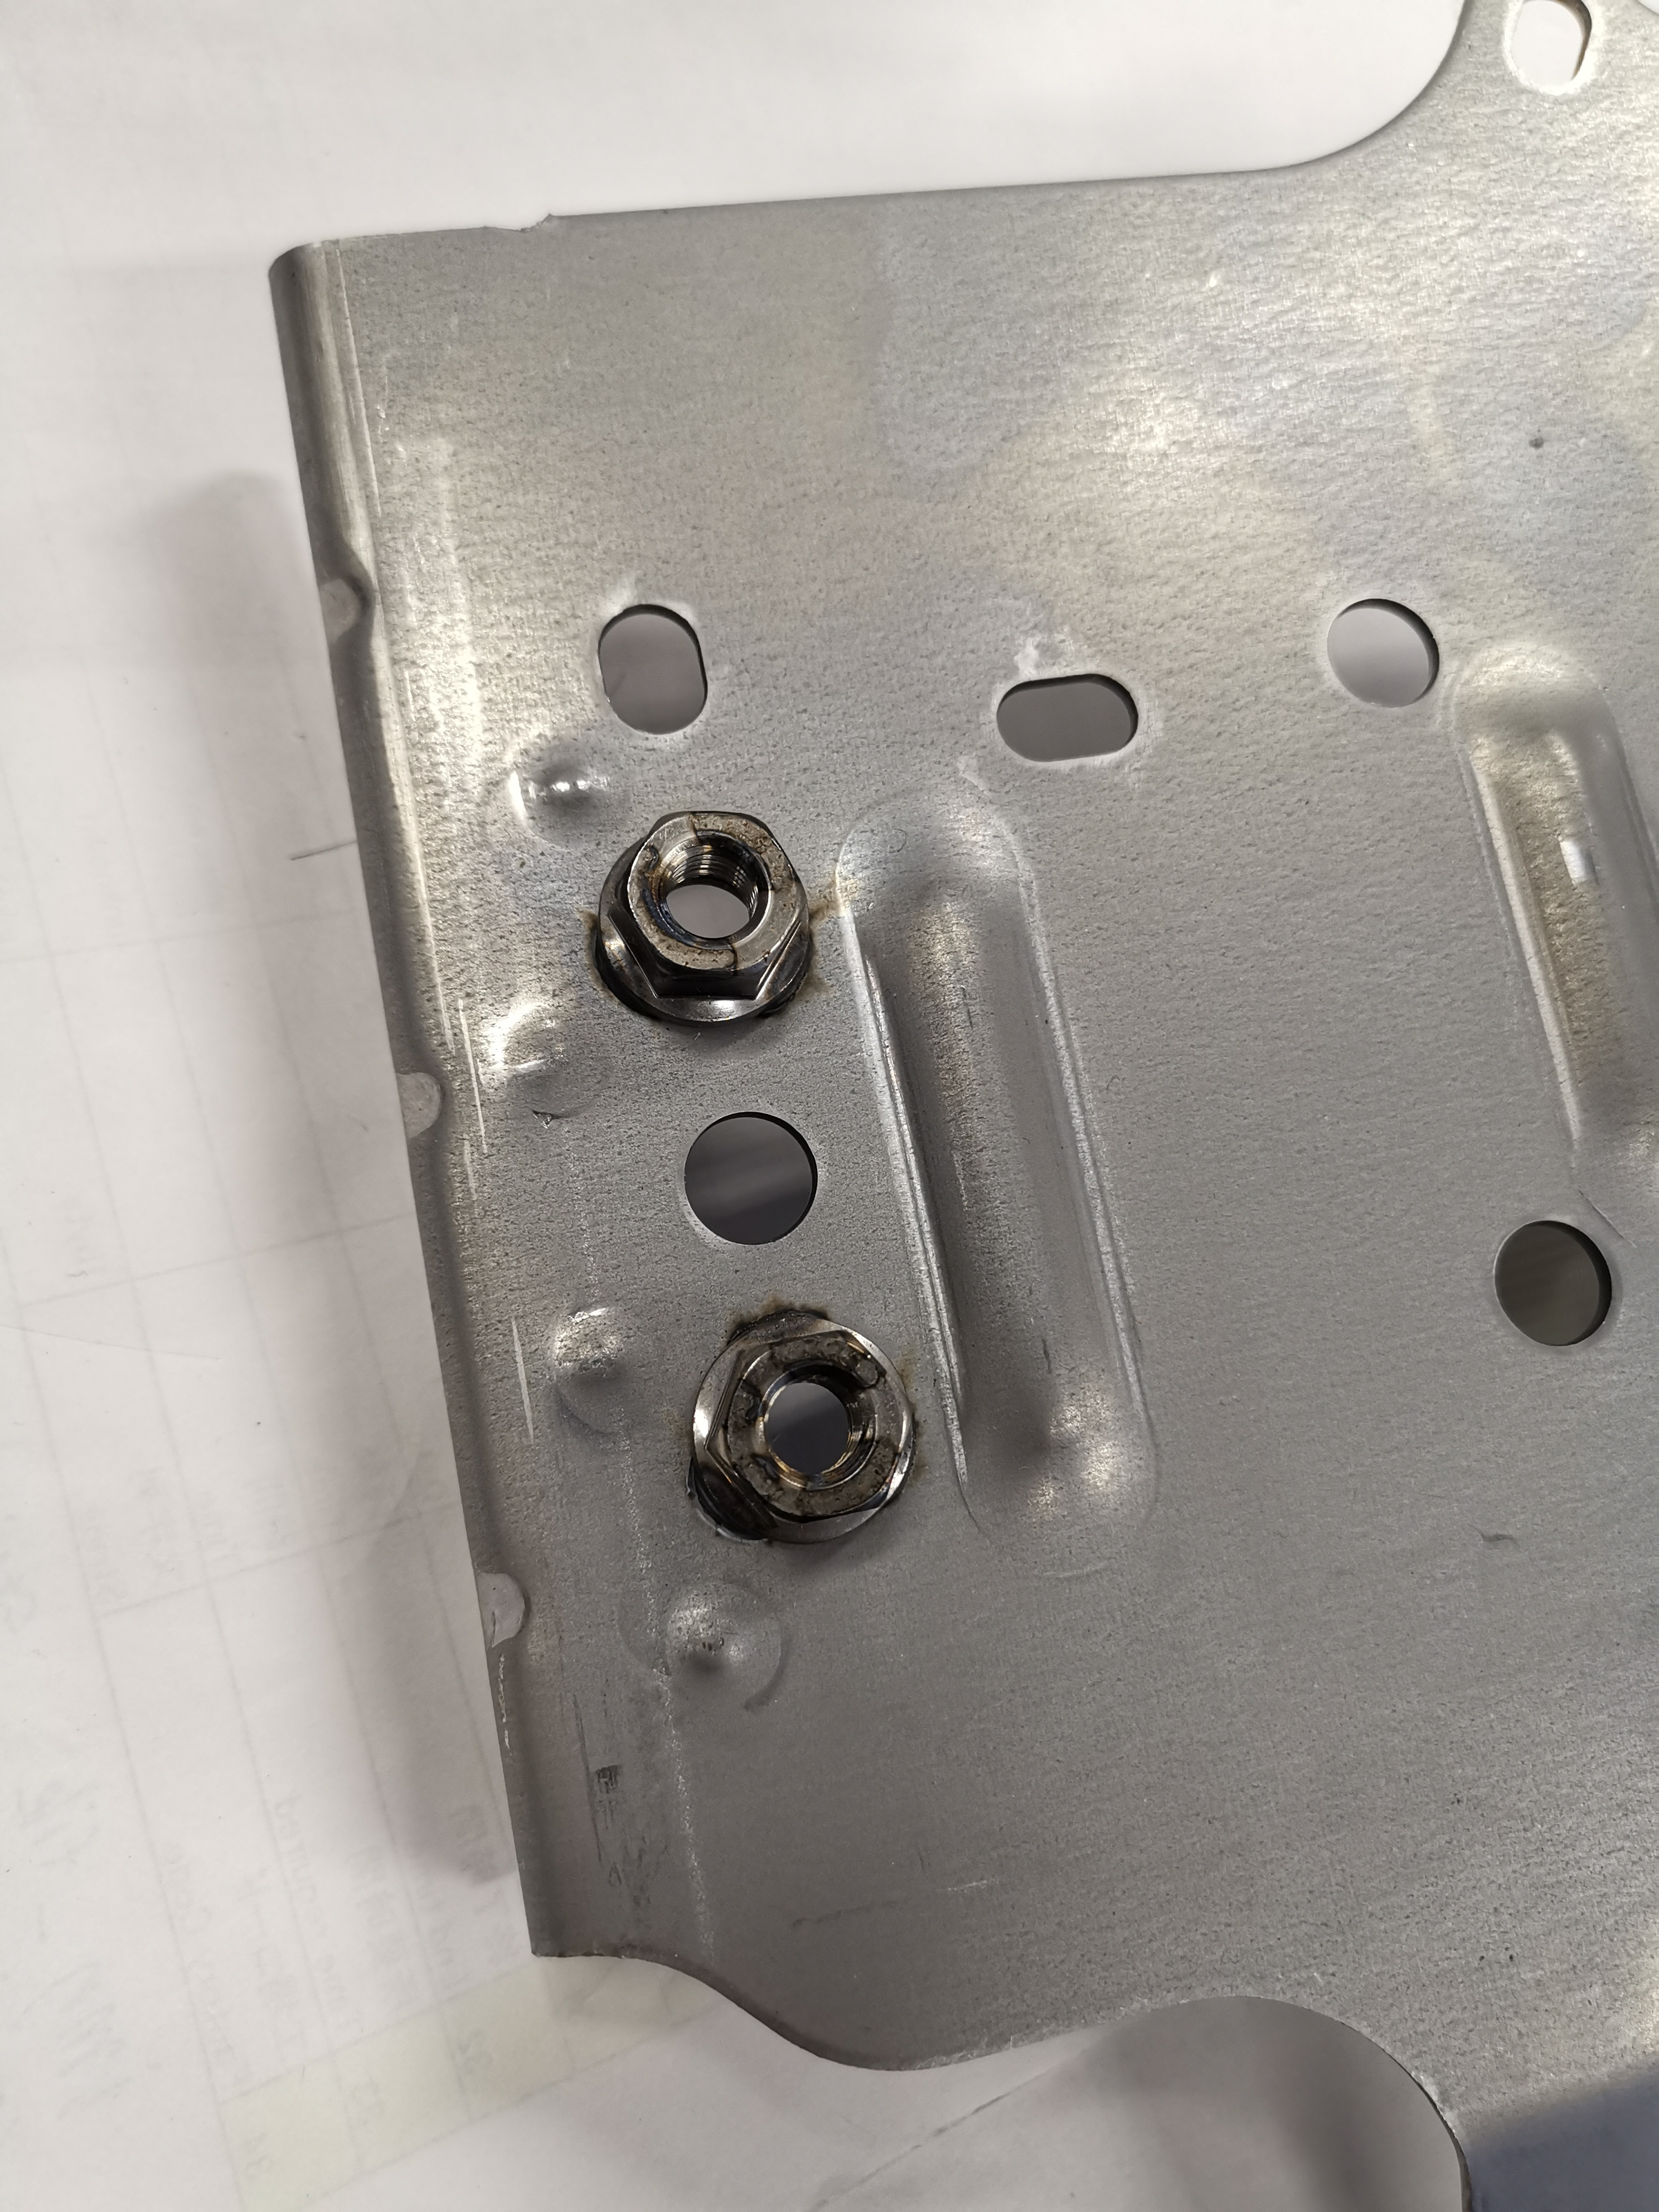dog: (680, 1301, 924, 1552), (582, 801, 823, 1031)
